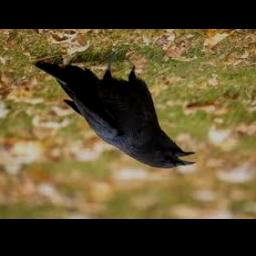Crow: (33, 51, 196, 169)
